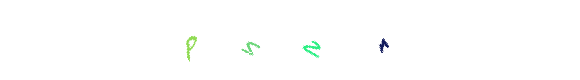N: (343, 0, 423, 80)
P: (195, 0, 275, 80)
S: (250, 0, 330, 80)
Z: (272, 0, 352, 80)
